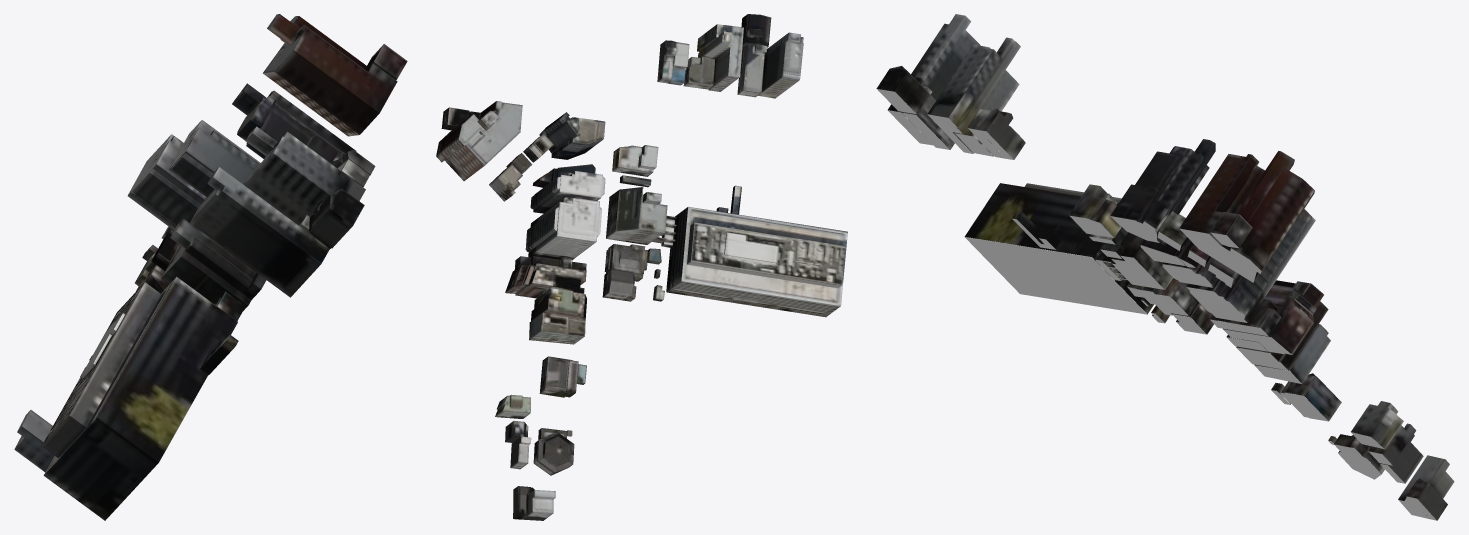
The picture shows the model from 3 angles, left to right: view 1: azimuth 30°, elevation 25°; view 2: azimuth 150°, elevation 25°; view 3: azimuth 270°, elevation 25°; orthographic projection. The views are drawn at different scales.
Bounding box in the file's own units: 131 × 143 × 161.
2 materials, 1 textured.
